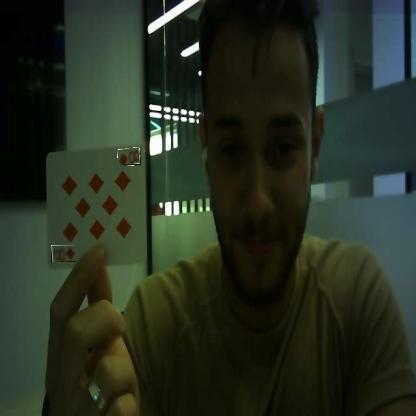8D: (51, 245, 76, 262), (118, 148, 141, 165)
